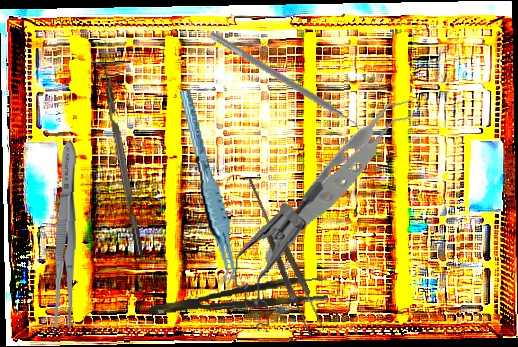Chopper: (91, 58, 144, 257)
Dressing Forceps: (50, 140, 82, 330)
Spatula Surgical: (204, 30, 367, 137)
Speculum: (229, 179, 326, 334)
Tissue Forceps: (231, 94, 456, 267), (240, 173, 327, 338), (177, 86, 239, 289), (147, 275, 329, 317)
